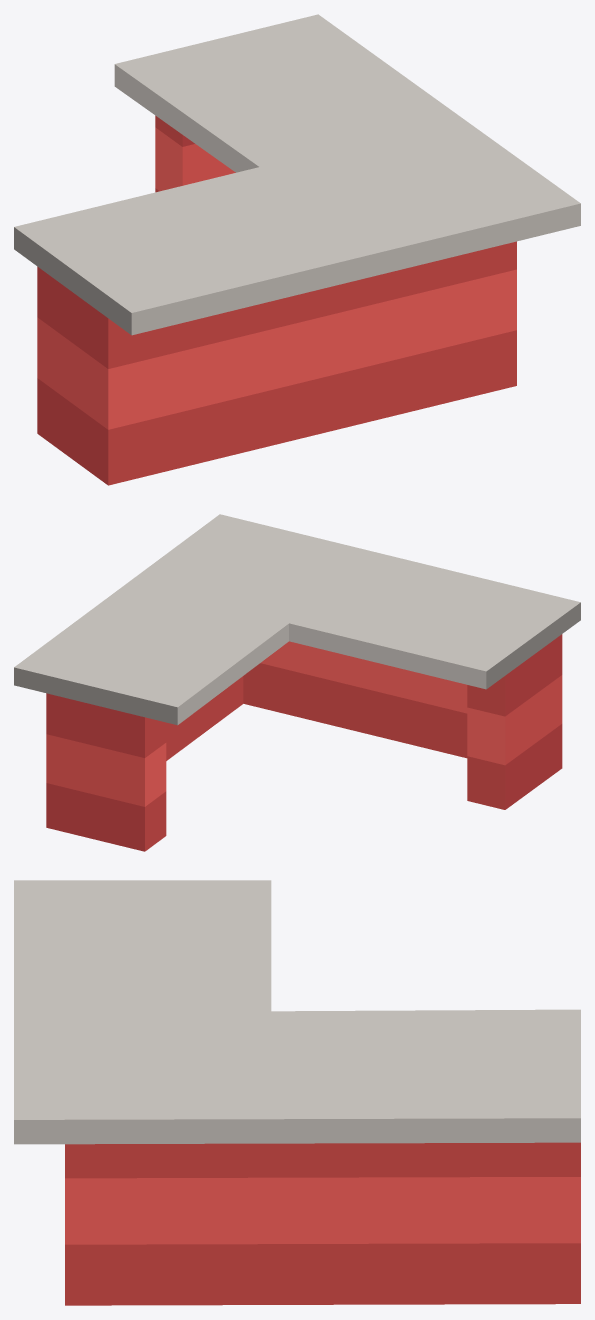
File: Counter8.glb
The picture shows the model from 3 angles, top to bottom: view 1: azimuth 30°, elevation 25°; view 2: azimuth 150°, elevation 25°; view 3: azimuth 270°, elevation 25°; orthographic projection. The views are drawn at different scales.
Visible parts, largest first — view 1: SI_Prop_Counter_09; view 2: SI_Prop_Counter_09; view 3: SI_Prop_Counter_09.
Part boxes in pixels (x1=…): SI_Prop_Counter_09: x1=14, y1=14, x2=580, y2=485; SI_Prop_Counter_09: x1=14, y1=514, x2=580, y2=851; SI_Prop_Counter_09: x1=14, y1=880, x2=580, y2=1305.
Size of the model in its own units: 0.0366 by 0.0148 by 0.0366.
1 material, 1 textured.
